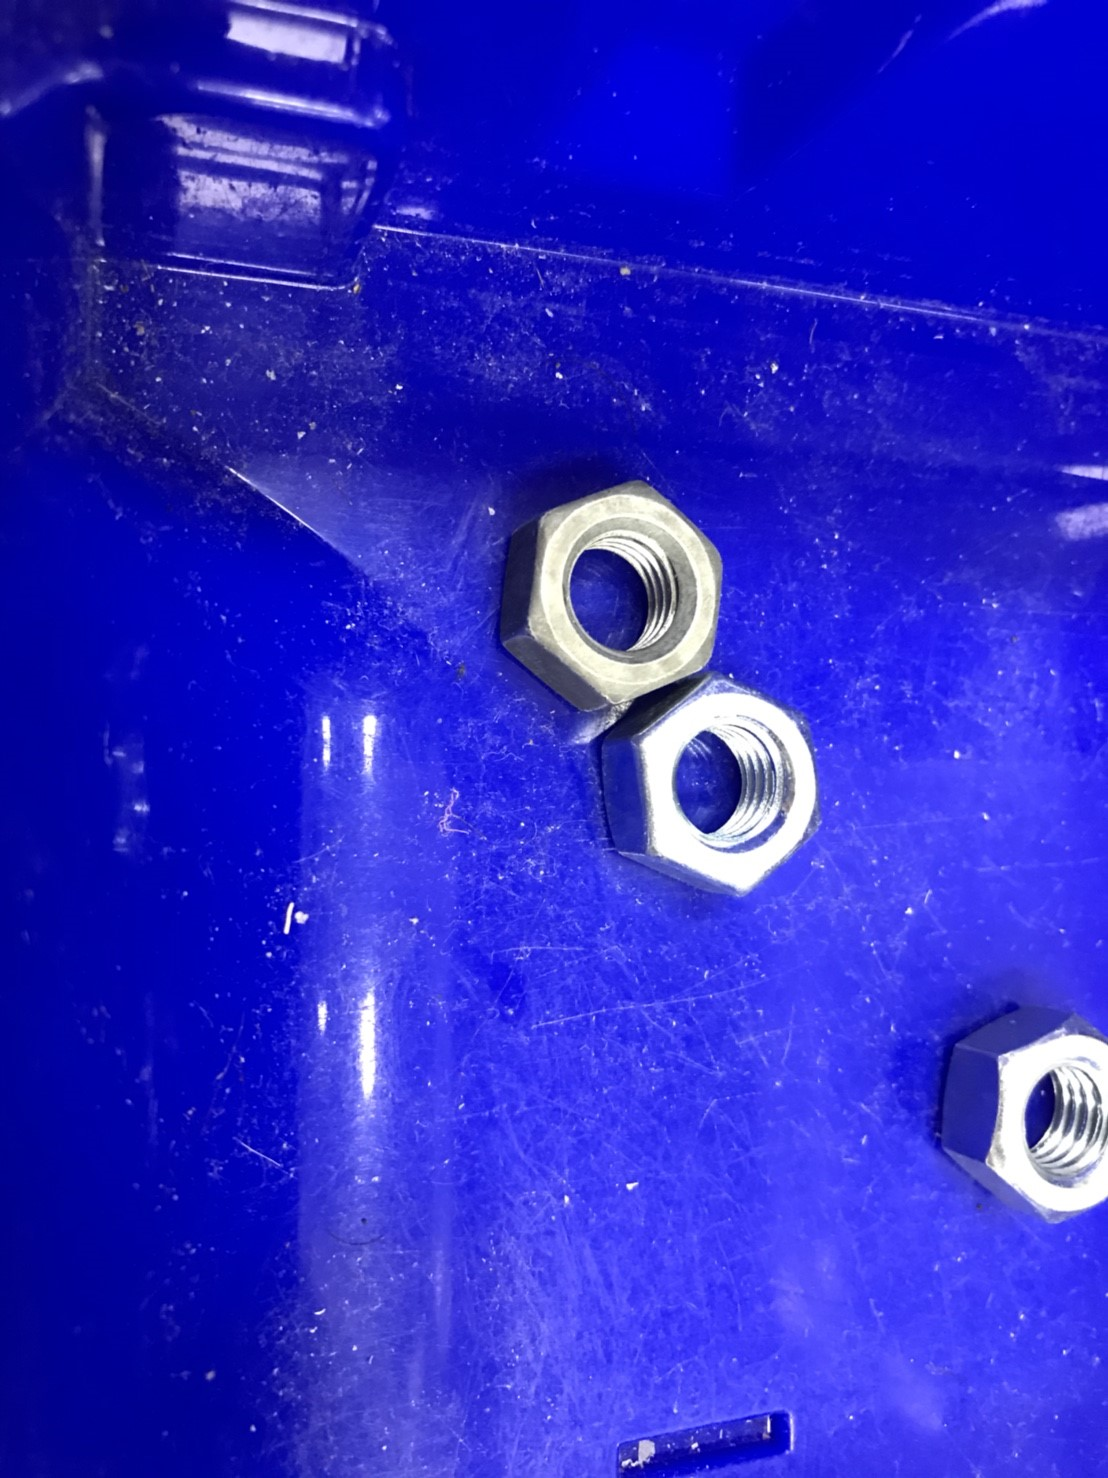nut: (493, 466, 726, 712), (605, 672, 822, 902), (945, 995, 1108, 1225)
